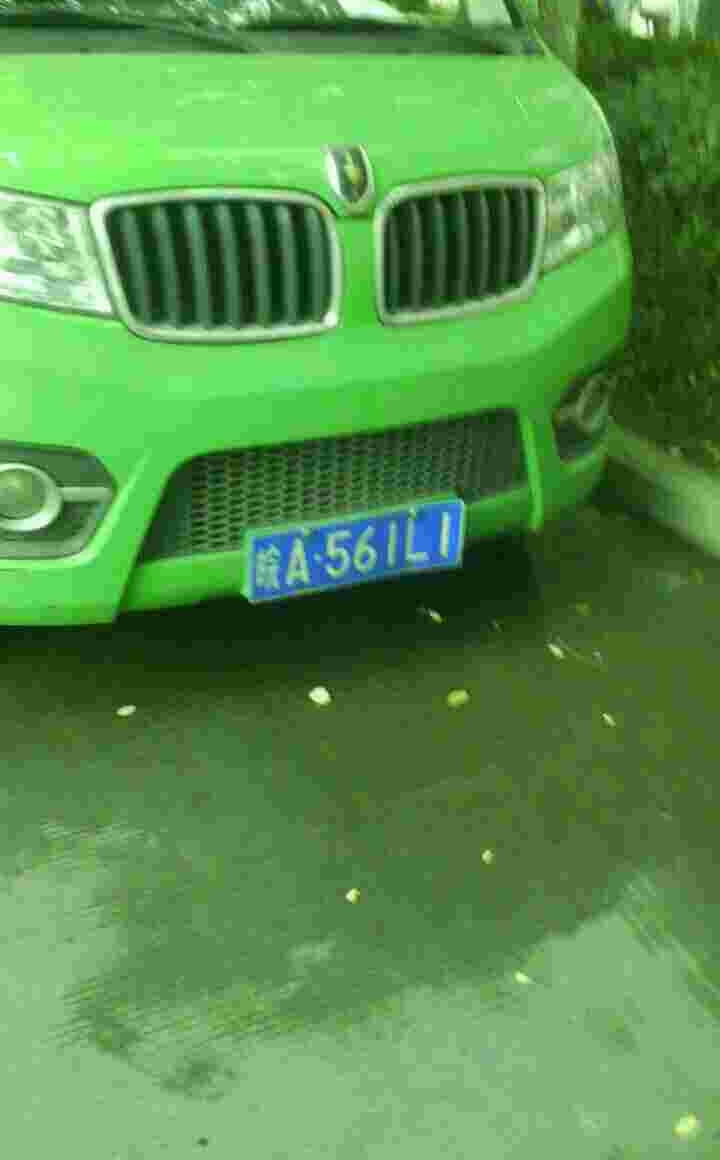license_plate: (257, 498, 467, 602)
